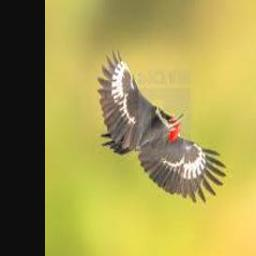Woodpecker: (97, 50, 227, 204)
